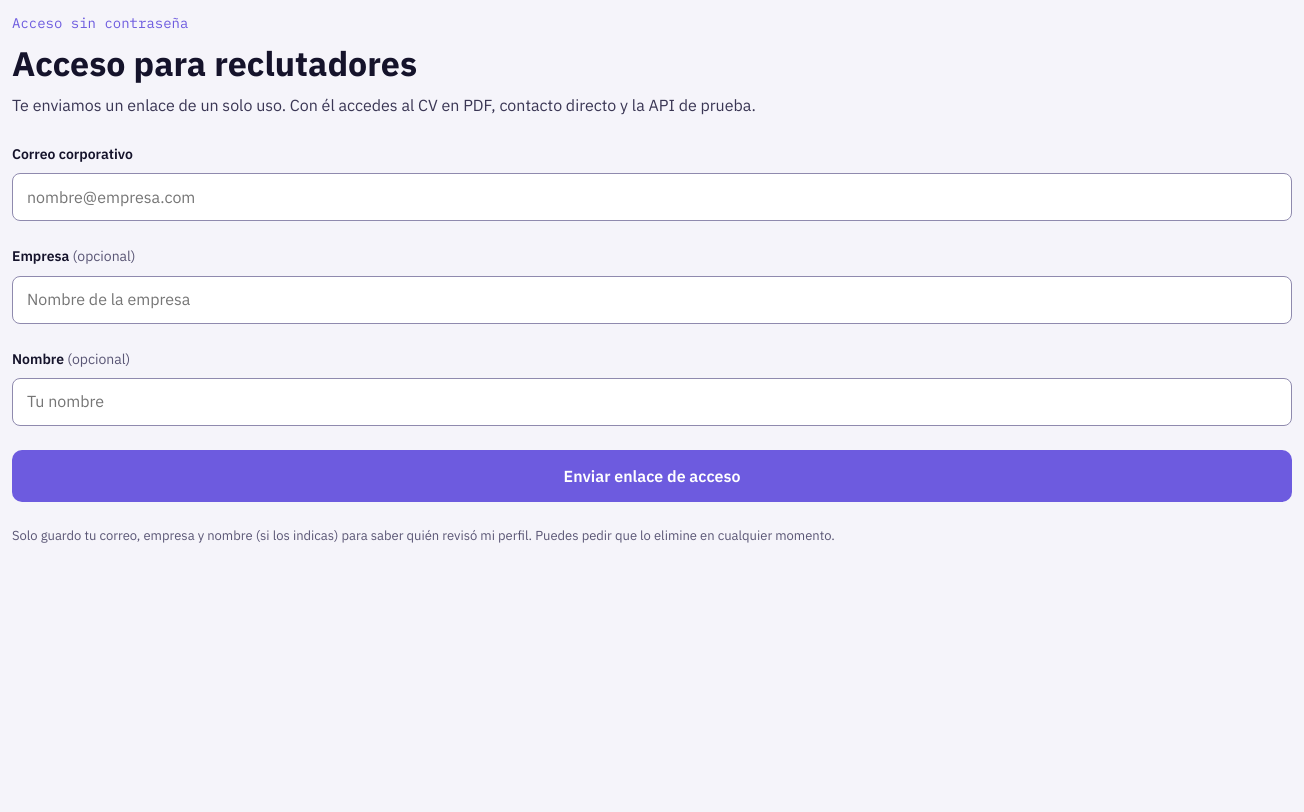
Test: LoginForm validation › clears the error as soon as the email becomes valid
This screenshot has width=1304, height=812.
Step 1. Click the button "Enviar enlace de acceso" → (652, 476), box x1=12 y1=450 x2=1292 y2=502
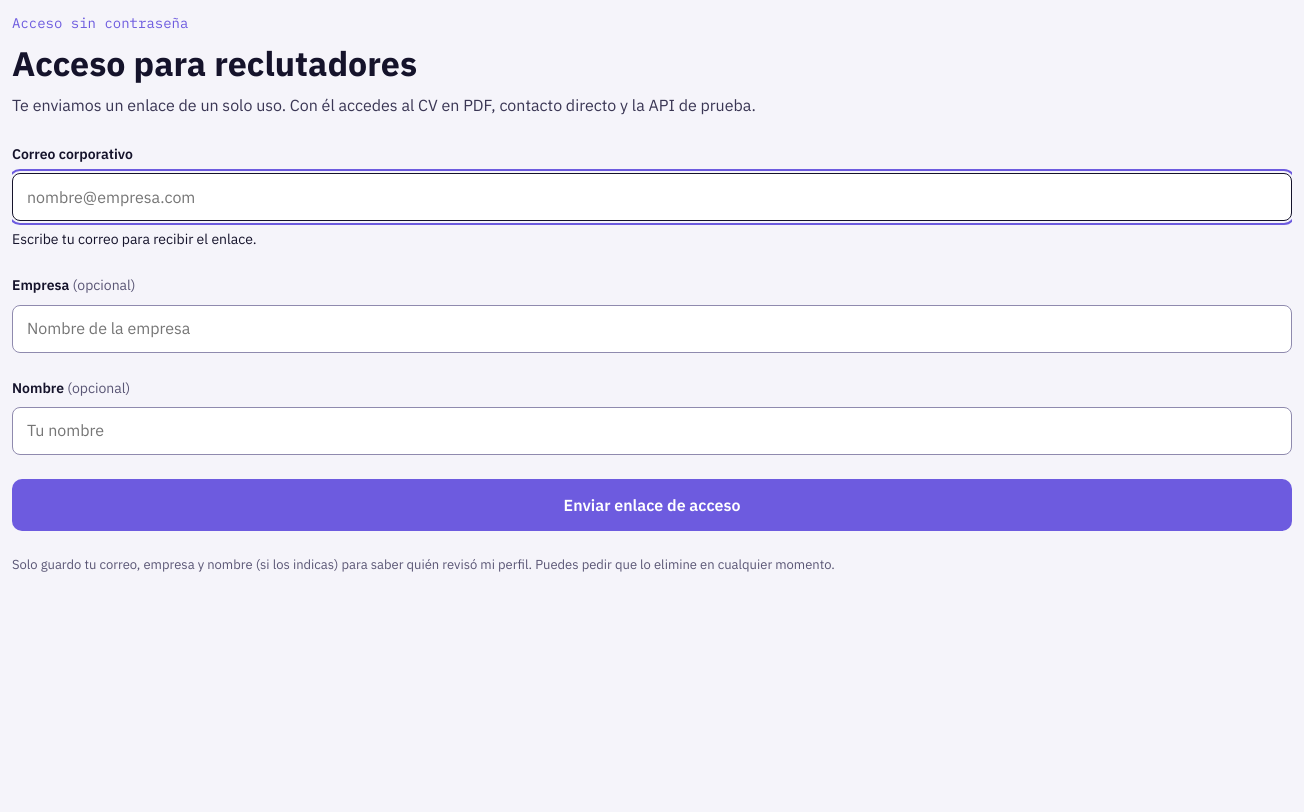
Check: the message "Escribe tu correo para recibir el enlace." is shown, box x1=12 y1=230 x2=256 y2=248
Step 2. Type "ana@empresa.com" into the field labelled "Correo corporativo" → (652, 198), box x1=12 y1=174 x2=1292 y2=222
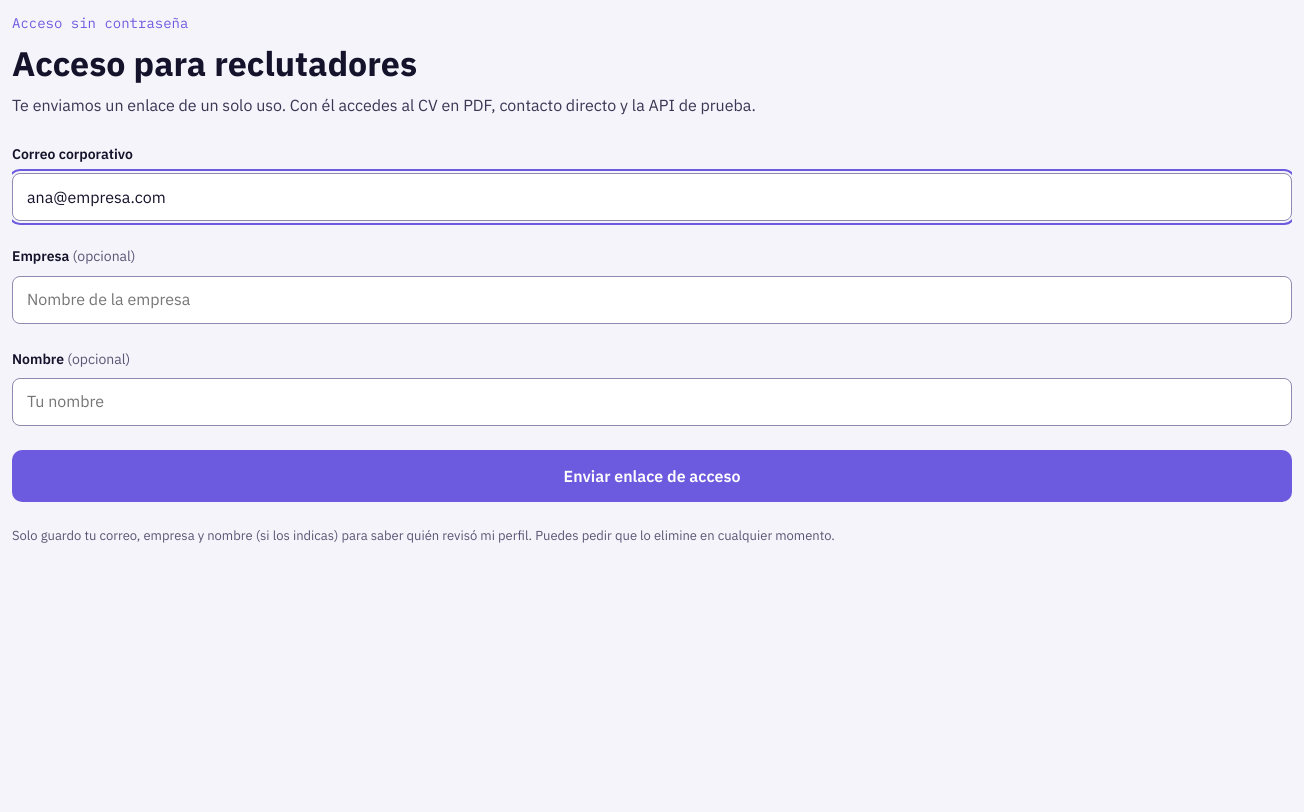
Check: the message "Escribe tu correo para recibir el enlace." is gone
